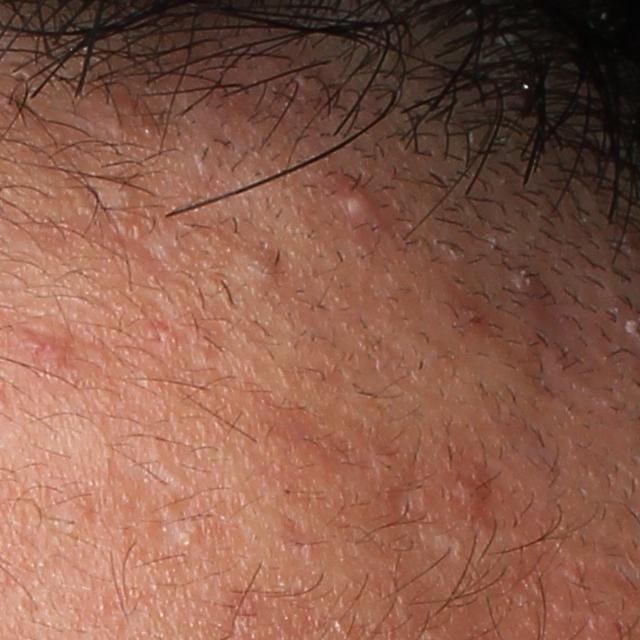comedo: (92, 172, 148, 212)
papule: (20, 324, 75, 367)
pustule: (329, 174, 376, 223)
